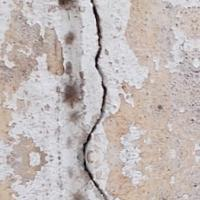crack: (60, 0, 114, 199)
